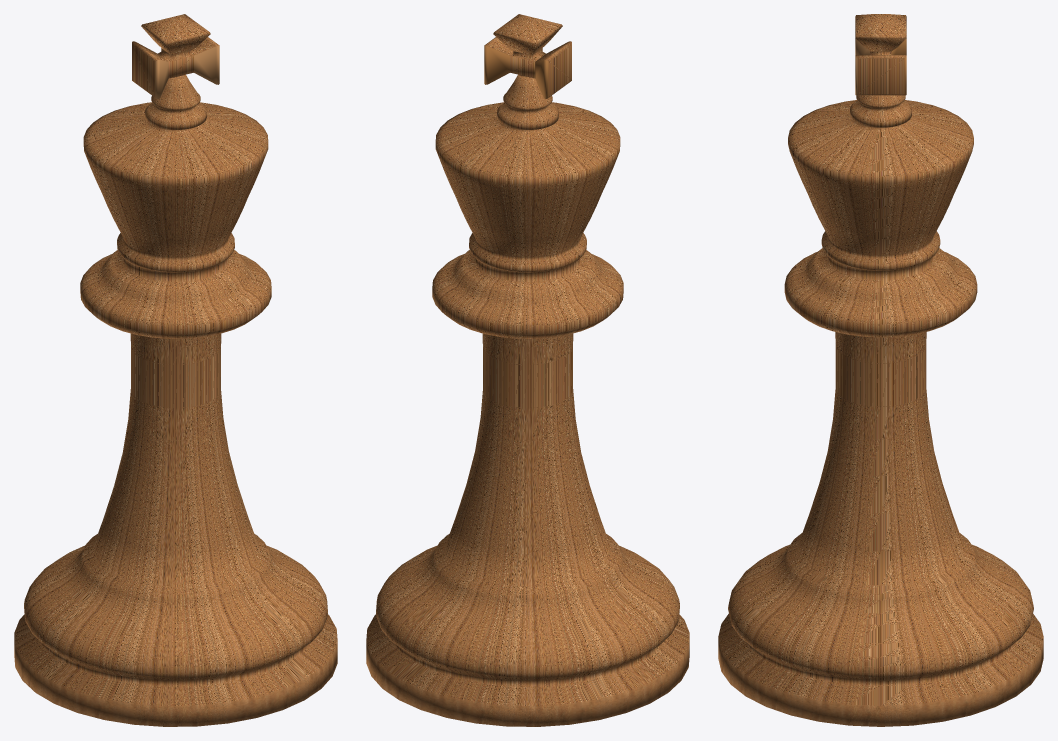
The model's file is King.gltf.
3 views of the same model, side by side, from view 1: azimuth 30°, elevation 25°; view 2: azimuth 150°, elevation 25°; view 3: azimuth 270°, elevation 25° (orthographic).
Parts seen in each view (by area): view 1: BlackKing; view 2: BlackKing; view 3: BlackKing.
Part boxes in pixels (<box>): BlackKing: <box>14,14,337,726</box>; BlackKing: <box>366,14,689,726</box>; BlackKing: <box>718,14,1043,726</box>.
Size of the model in its own units: 0.0482 by 0.1047 by 0.0482.
Materials: 1 (1 with a texture image).
